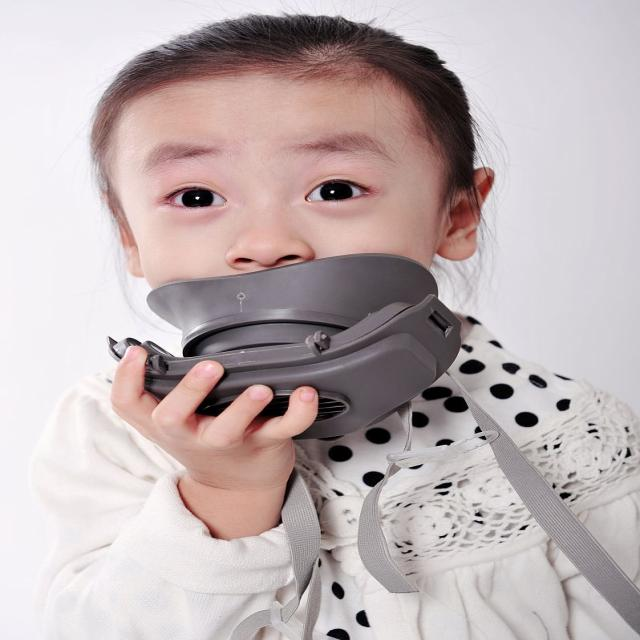mask: (115, 78, 422, 376)
